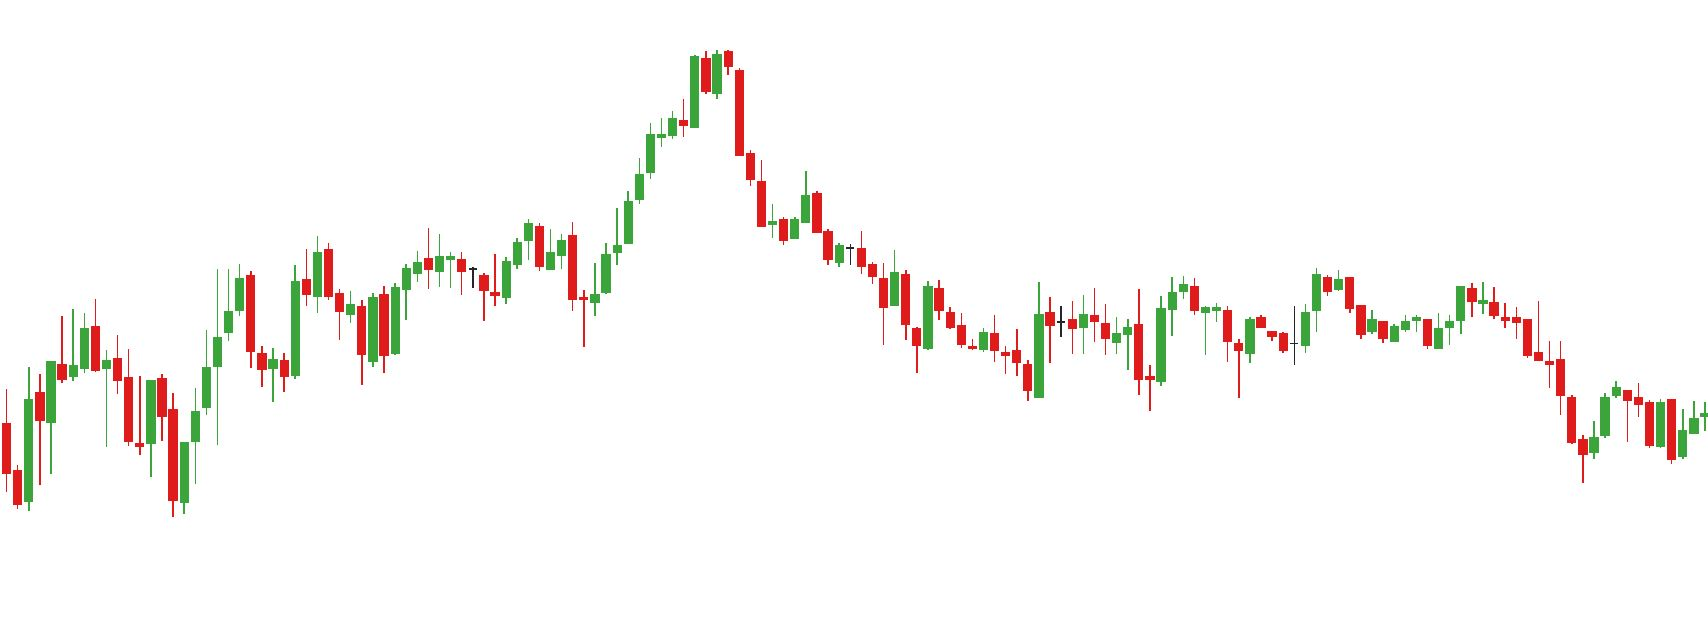buy: (13, 383, 190, 521), (478, 254, 588, 349)
sell: (1164, 266, 1334, 340)
